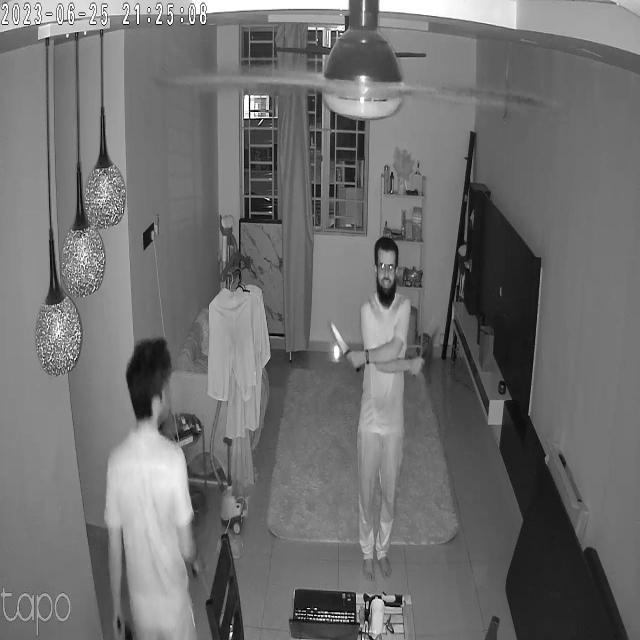Knife: (323, 316, 359, 371), (415, 328, 451, 368)
